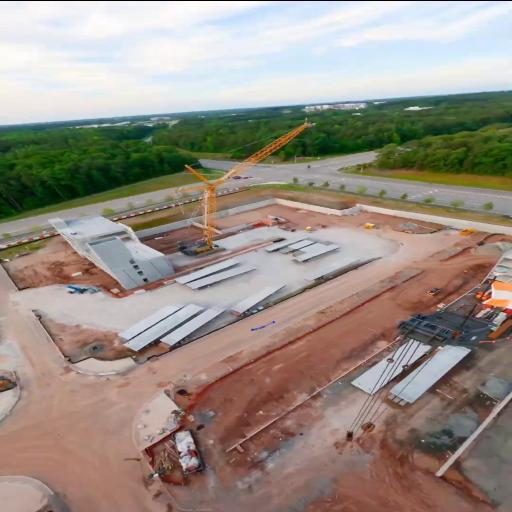uav: (246, 316, 282, 336)
